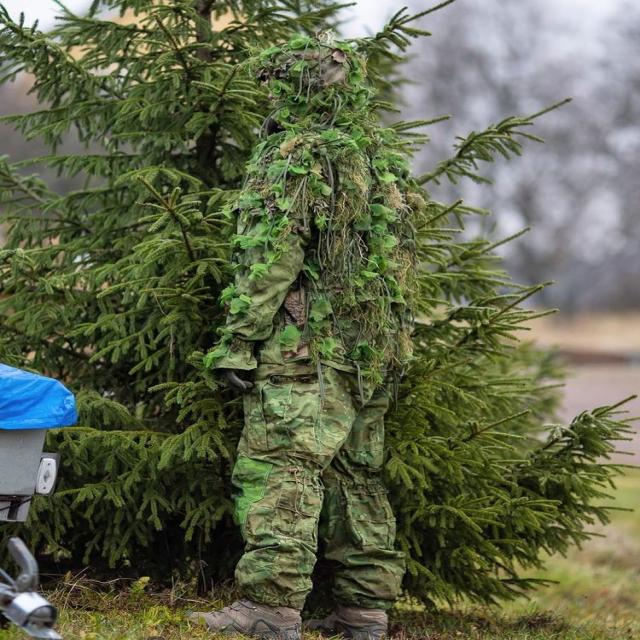Human: (186, 43, 410, 628)
